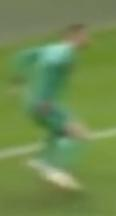goalkeeper: (5, 12, 115, 203)
